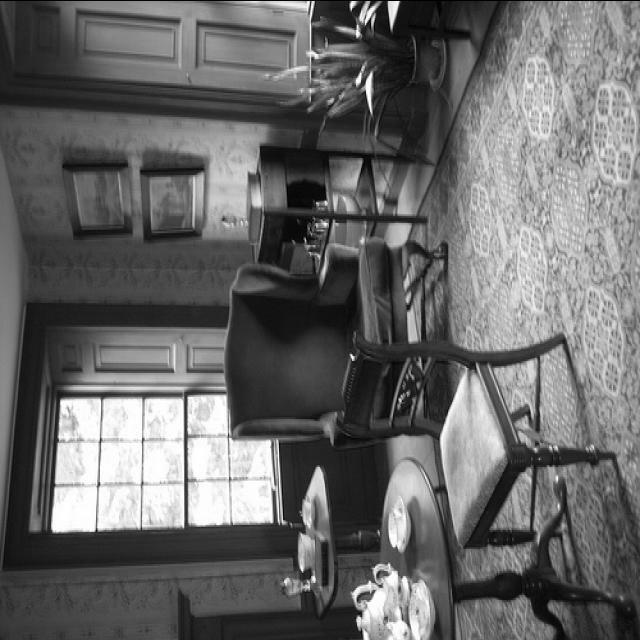chair: (331, 327, 608, 547)
